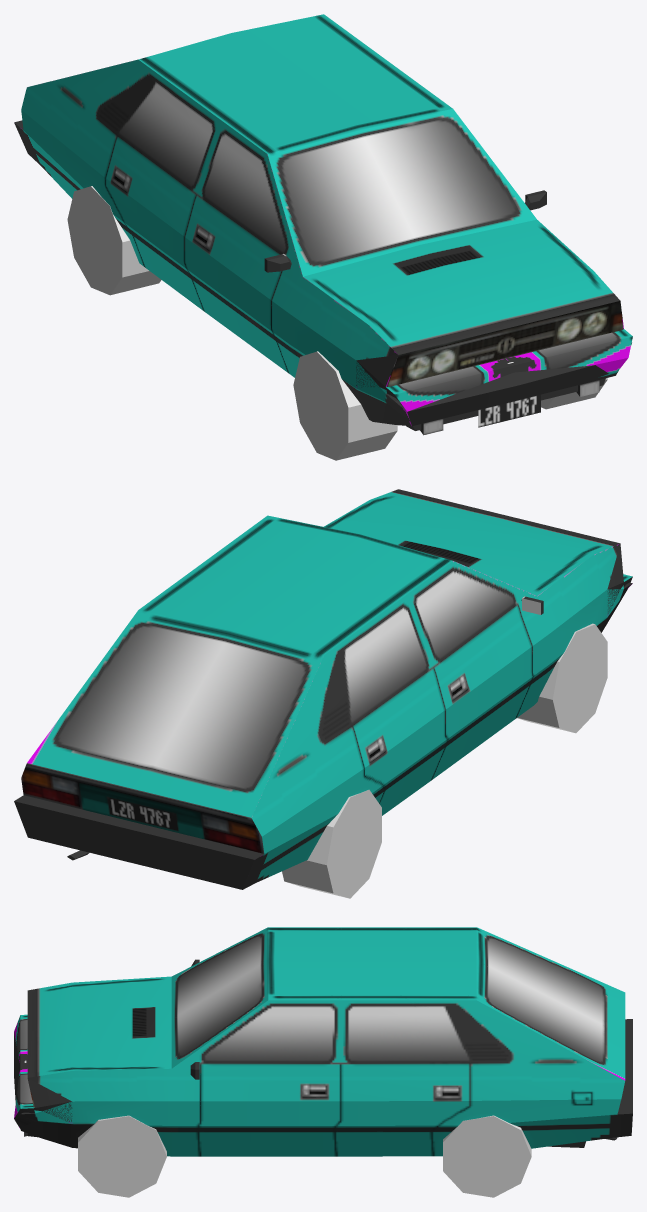
The model's file is polonez01-final.fbx.
3 views of the same model, one above another, from view 1: azimuth 30°, elevation 25°; view 2: azimuth 150°, elevation 25°; view 3: azimuth 270°, elevation 25° (orthographic). The views are drawn at different scales.
Parts seen in each view (by area): view 1: Car, Cylinder.BOOL, Body.original; view 2: Car, Cylinder.BOOL, Body.original; view 3: Car, Cylinder.BOOL, Body.original.
Boxes of the visible parts, bbox=[...] form: Car: bbox=[14, 14, 631, 435]; Cylinder.BOOL: bbox=[67, 186, 607, 460]; Body.original: bbox=[356, 303, 632, 411]; Car: bbox=[14, 489, 632, 889]; Cylinder.BOOL: bbox=[282, 623, 607, 898]; Body.original: bbox=[607, 543, 632, 614]; Car: bbox=[14, 927, 632, 1156]; Cylinder.BOOL: bbox=[78, 1115, 531, 1197]; Body.original: bbox=[14, 1014, 72, 1127].
Bounding box in the file's own units: 214 × 169 × 509.
